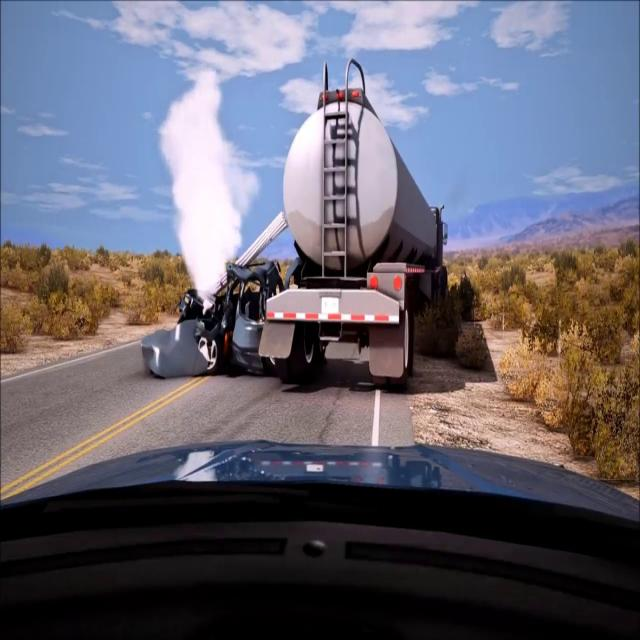accident: (141, 46, 456, 394)
